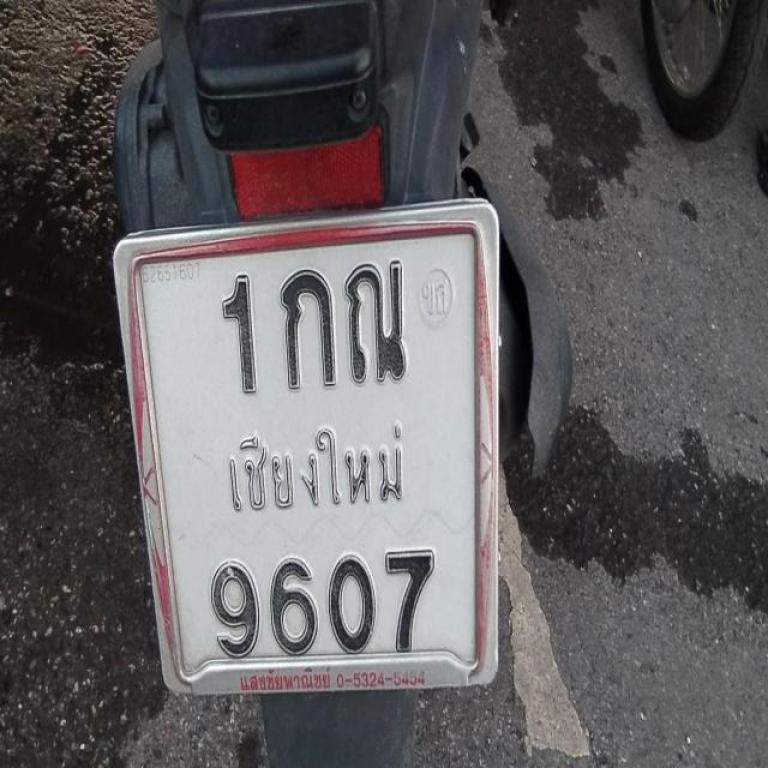license plate: (114, 193, 515, 705)
